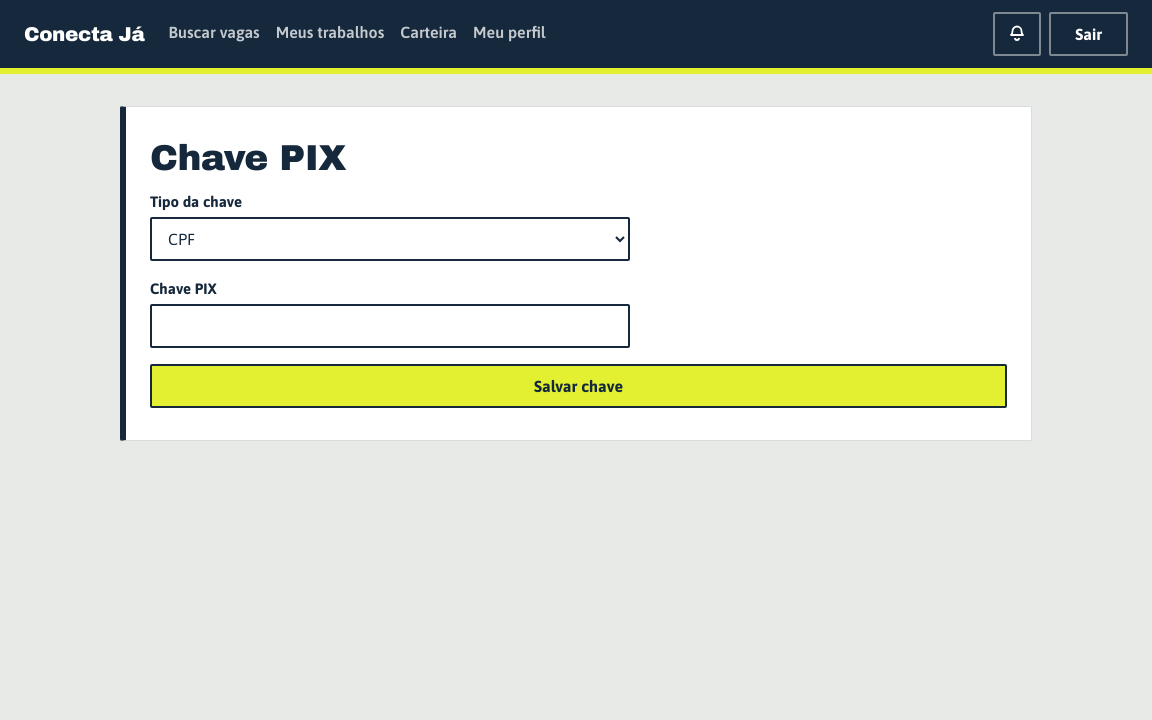
Test: Chave PIX › salva a chave e mostra apenas a versão mascarada
Type "12345678909" into the field labelled "Chave PIX" at (390, 326), box [150,304,630,348]
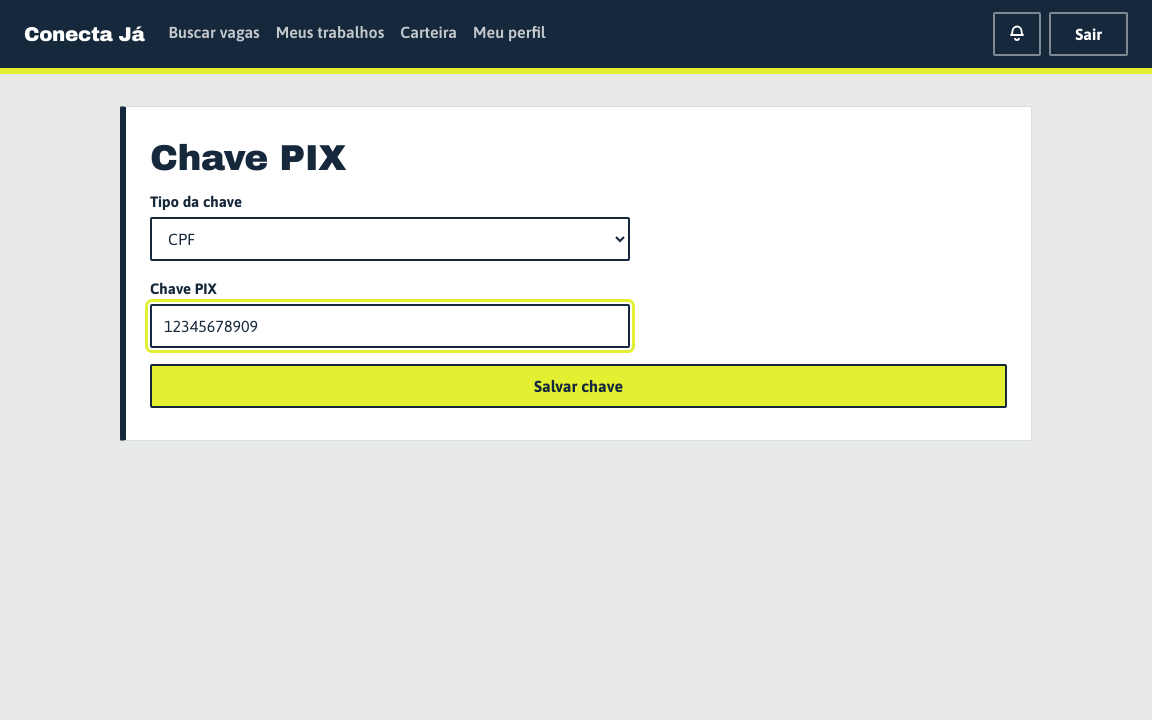
Click the button "Salvar chave" at (578, 386), box [150,364,1007,408]
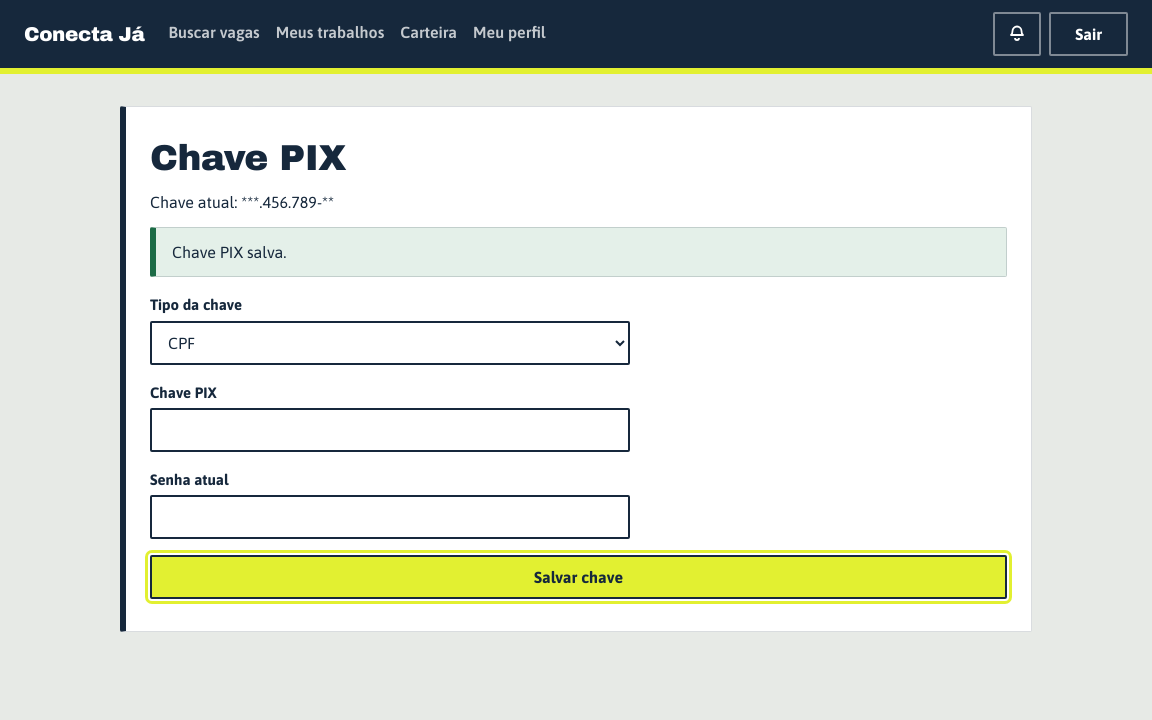
Expected: the text "12345678909" is not shown
Now the text "Chave atual: ***.456.789-**" is shown, box [150,193,334,211]
